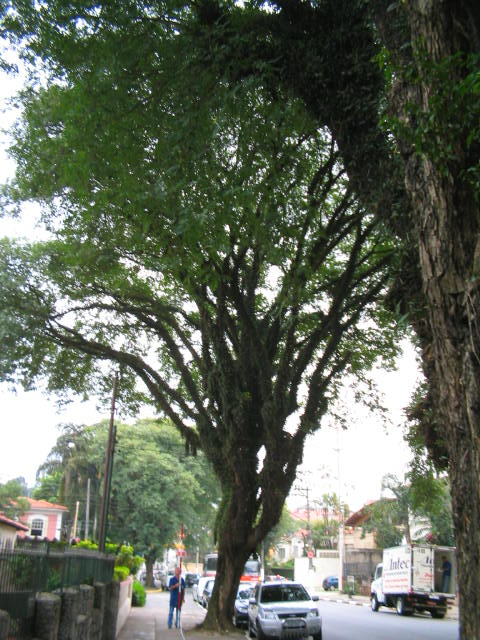crown: (3, 26, 427, 420)
stem: (195, 543, 256, 630)
stick: (174, 519, 187, 627)
tree: (2, 26, 429, 630)
